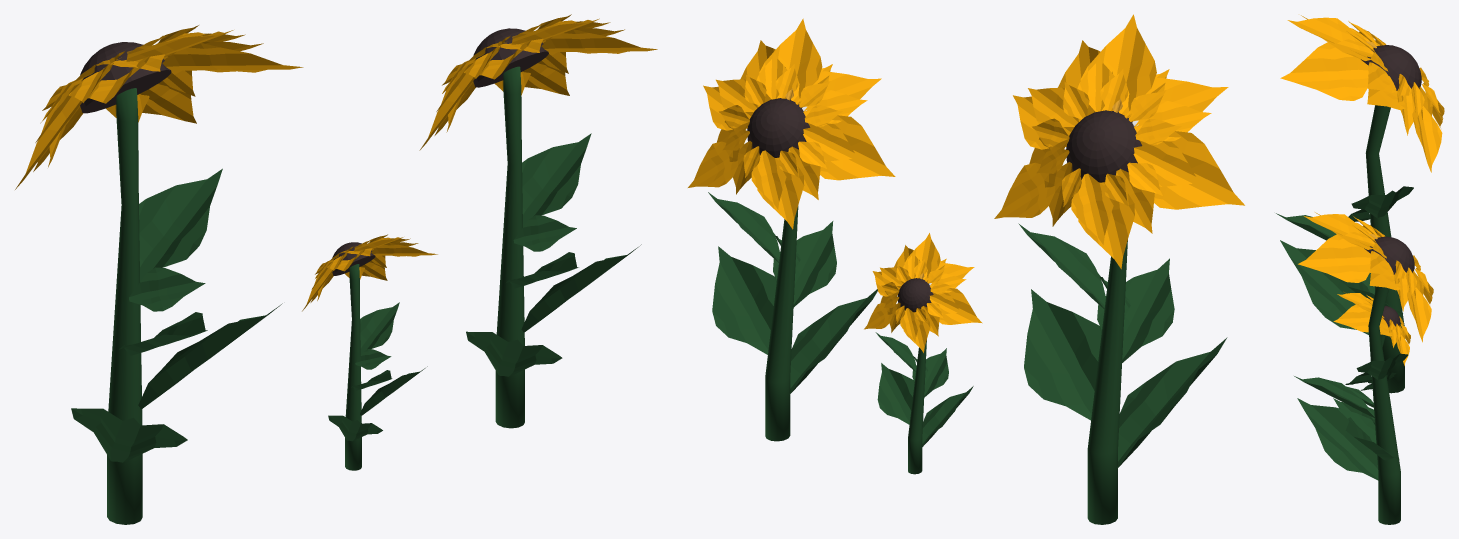
Rendered from Sunflower_TTC_v02.fbx.
3 renders of one model, left to right at view 1: azimuth 30°, elevation 25°; view 2: azimuth 150°, elevation 25°; view 3: azimuth 270°, elevation 25°, orthographic. The views are drawn at different scales.
Visible parts, largest first — view 1: Plane.008, Plane.098, Plane.007, Plane.087, Plane.004, Plane.003, Sphere.002, Sphere.003; view 2: Plane.007, Plane.008, Plane.087, Plane.098, Plane.003, Plane.004, Sphere.002, Sphere.003, Sphere.001; view 3: Plane.098, Plane.007, Plane.008, Plane.087, Plane.003, Sphere.002, Sphere.003, Plane.004, Sphere.001.
Boxes of the visible parts, bbox=[...] form: Plane.008: bbox=[71, 88, 282, 524]; Plane.098: bbox=[466, 66, 641, 428]; Plane.007: bbox=[15, 25, 303, 189]; Plane.087: bbox=[419, 14, 657, 150]; Plane.004: bbox=[328, 264, 427, 470]; Plane.003: bbox=[302, 234, 437, 311]; Sphere.002: bbox=[80, 42, 171, 113]; Sphere.003: bbox=[473, 28, 548, 87]; Plane.007: bbox=[994, 14, 1244, 269]; Plane.008: bbox=[1018, 223, 1227, 524]; Plane.087: bbox=[688, 18, 895, 229]; Plane.098: bbox=[708, 192, 877, 441]; Plane.003: bbox=[864, 233, 982, 352]; Plane.004: bbox=[875, 332, 973, 474]; Sphere.002: bbox=[1066, 110, 1142, 182]; Sphere.003: bbox=[747, 98, 810, 157]; Sphere.001: bbox=[897, 278, 933, 312]; Plane.098: bbox=[1294, 286, 1408, 524]; Plane.007: bbox=[1280, 15, 1444, 172]; Plane.008: bbox=[1276, 105, 1413, 393]; Plane.087: bbox=[1298, 212, 1433, 342]; Plane.003: bbox=[1333, 292, 1410, 365]; Sphere.002: bbox=[1361, 45, 1421, 90]; Sphere.003: bbox=[1364, 236, 1414, 274]; Plane.004: bbox=[1333, 334, 1396, 424]; Sphere.001: bbox=[1382, 306, 1400, 327].
Size of the model in its own units: 1804 by 1471 by 593.
